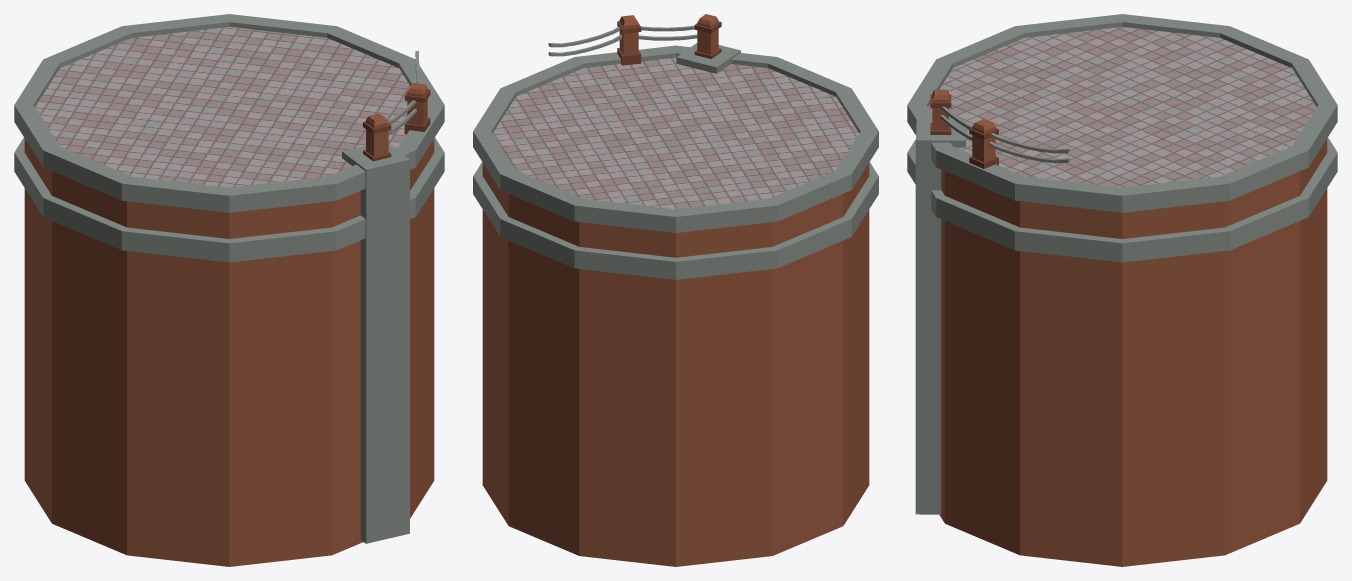
The model's file is RiverWallCorner.glb.
3 views of the same model, side by side, from view 1: azimuth 30°, elevation 25°; view 2: azimuth 150°, elevation 25°; view 3: azimuth 270°, elevation 25° (orthographic). The views are drawn at different scales.
Visible parts, largest first — view 1: Cube_012; view 2: Cube_012; view 3: Cube_012.
Boxes of the visible parts, x1,y1,x2,y2 form: Cube_012: (14,14,444,566); Cube_012: (473,14,878,566); Cube_012: (907,14,1337,566).
Size of the model in its own units: 9.02 by 9.61 by 9.02.
Materials: 2 (2 with a texture image).
